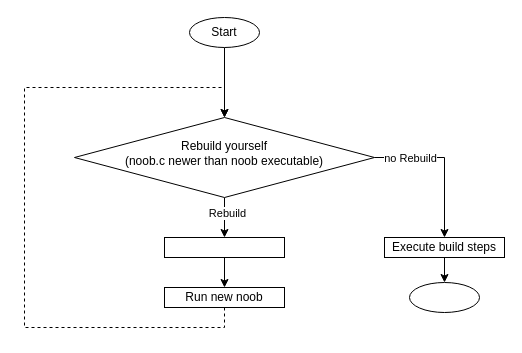
The diagram is 522 pixels wide and 353 high, and some of its shapes have lost their labels. The centre of each missing label's shape, as x and y in pixels:
"Compile noob.c" belongs at point 224,247.
"End" belongs at point 444,297.
